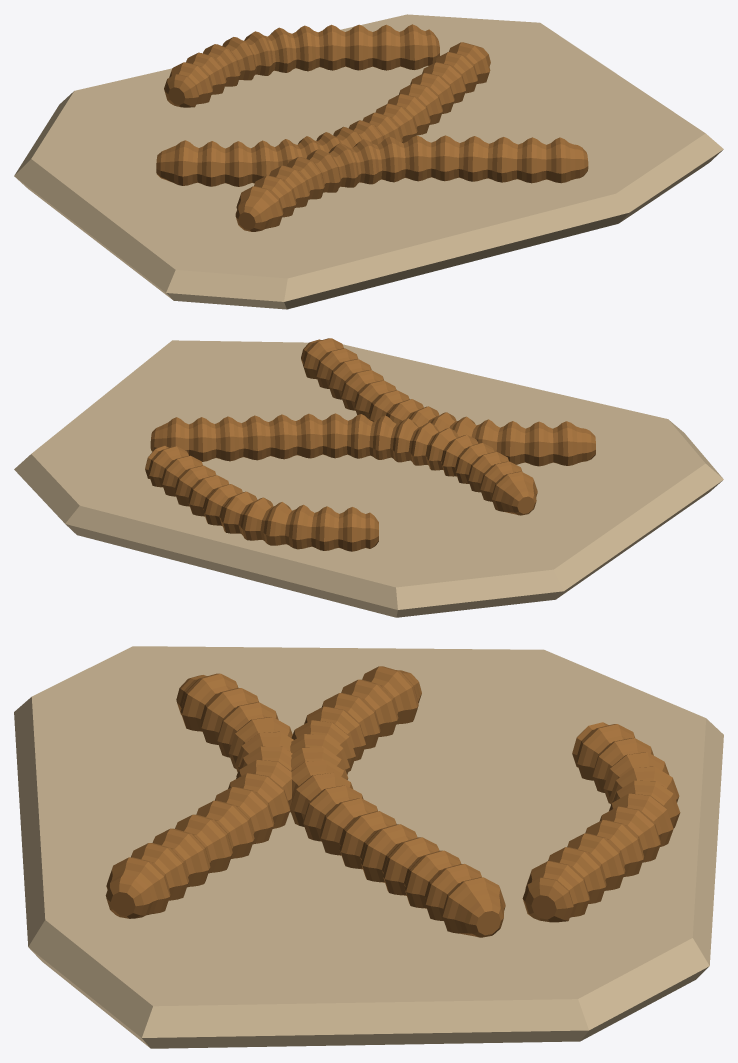
The picture shows the model from 3 angles, top to bottom: view 1: azimuth 30°, elevation 25°; view 2: azimuth 150°, elevation 25°; view 3: azimuth 270°, elevation 25°; orthographic projection. The views are drawn at different scales.
Parts seen in each view (by area): view 1: illustrative_sediment_support, continuous_transversely_annulated_casts; view 2: illustrative_sediment_support, continuous_transversely_annulated_casts; view 3: illustrative_sediment_support, continuous_transversely_annulated_casts.
Part boxes in pixels (bbox=[...]): illustrative_sediment_support: bbox=[14, 14, 723, 309]; continuous_transversely_annulated_casts: bbox=[156, 24, 588, 231]; illustrative_sediment_support: bbox=[14, 340, 723, 617]; continuous_transversely_annulated_casts: bbox=[145, 338, 595, 551]; illustrative_sediment_support: bbox=[14, 646, 723, 1048]; continuous_transversely_annulated_casts: bbox=[105, 666, 680, 937].
Size of the model in its own units: 0.24 by 0.0255 by 0.19.
